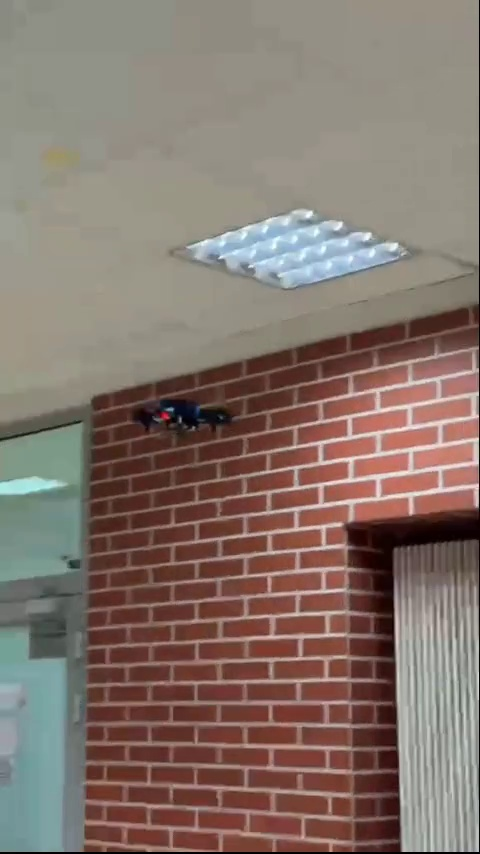drone: (132, 392, 225, 440)
